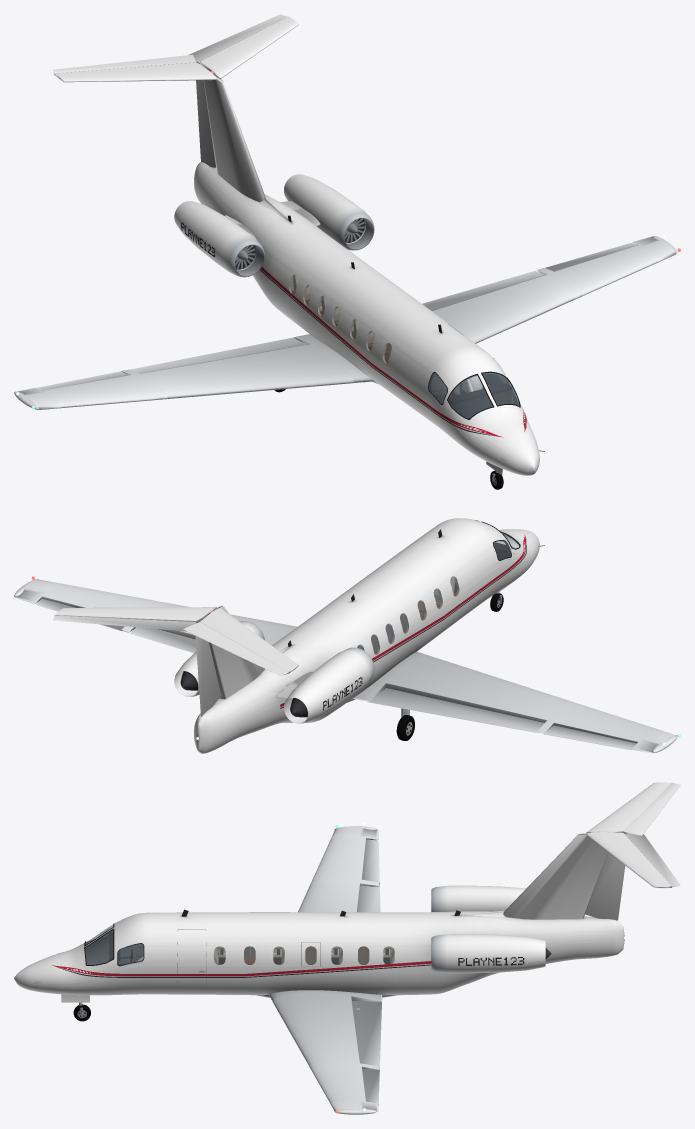
The picture shows the model from 3 angles, top to bottom: view 1: azimuth 30°, elevation 25°; view 2: azimuth 150°, elevation 25°; view 3: azimuth 270°, elevation 25°; orthographic projection. The views are drawn at different scales.
Visible parts, largest first — view 1: body, canopy, flapR, flapL, rudder, elevR, elevL; view 2: body, flapR, rudder, elevR, elevL, canopy, ailR, flapL, wheelR; view 3: body, canopy, rudder, flapL, elevR, elevL, ailR, flapR, ailL.
Boxes of the visible parts, bbox=[...] form: body: bbox=[14, 16, 680, 475]; canopy: bbox=[290, 275, 519, 418]; flapR: bbox=[130, 337, 304, 373]; flapL: bbox=[422, 270, 543, 310]; rudder: bbox=[196, 80, 215, 167]; elevR: bbox=[53, 54, 195, 74]; elevL: bbox=[188, 14, 287, 63]; body: bbox=[14, 518, 680, 753]; flapR: bbox=[367, 688, 544, 732]; rudder: bbox=[195, 636, 221, 716]; elevR: bbox=[183, 622, 288, 675]; elevL: bbox=[53, 615, 196, 631]; canopy: bbox=[357, 532, 519, 654]; ailR: bbox=[543, 725, 636, 749]; flapL: bbox=[130, 627, 196, 653]; wheelR: bbox=[396, 715, 414, 740]; body: bbox=[14, 782, 671, 1114]; canopy: bbox=[85, 925, 394, 965]; rudder: bbox=[585, 852, 625, 920]; flapL: bbox=[352, 1001, 381, 1066]; elevR: bbox=[623, 782, 680, 835]; elevL: bbox=[625, 833, 680, 887]; ailR: bbox=[362, 839, 379, 882]; flapR: bbox=[357, 886, 380, 912]; ailL: bbox=[362, 1069, 379, 1103].
Bounding box in the file's own units: 17.19 × 5.29 × 16.88.
